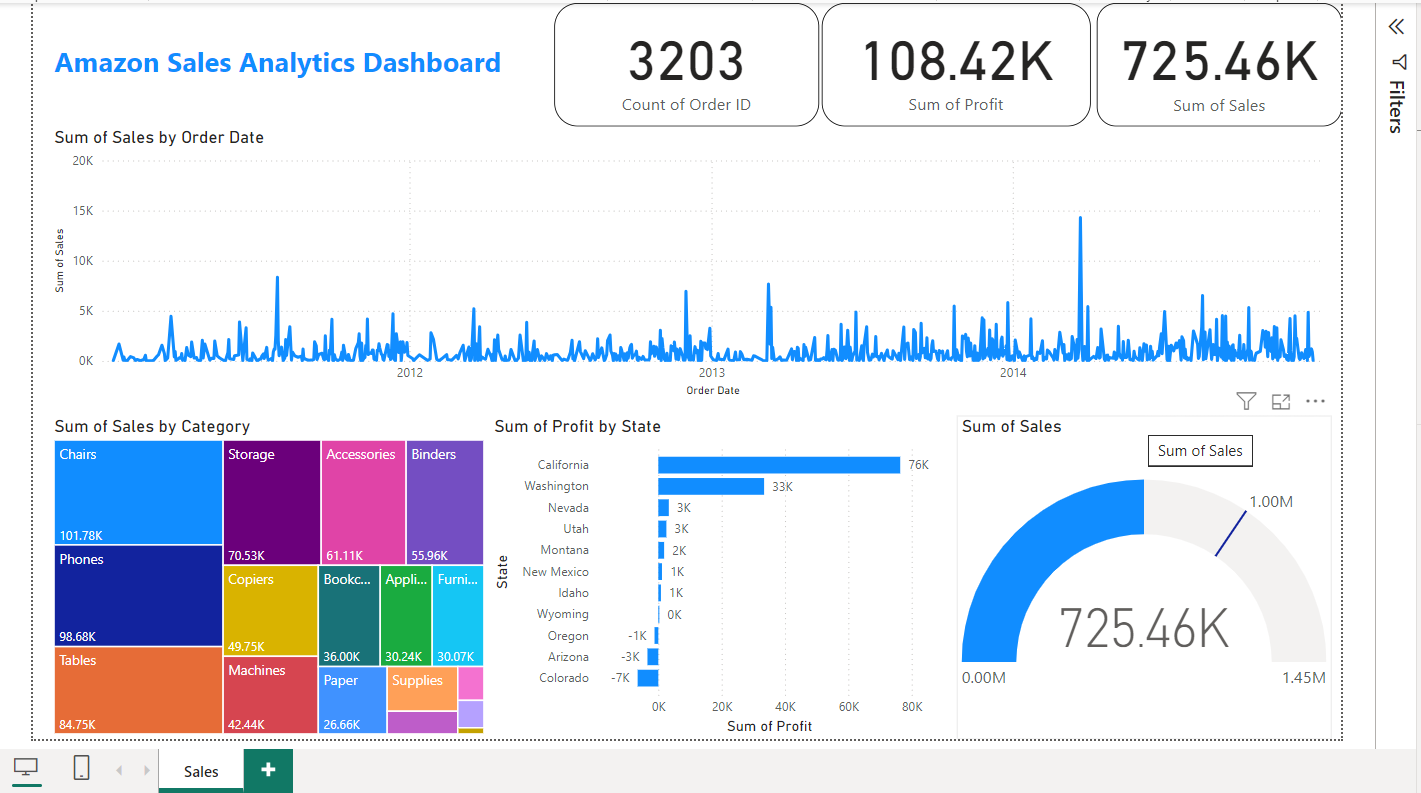

Layout of this report page (visuals, bound fields, positions):
{"tool":"powerbi","page":{"name":"Sales","canvas":[1280,720],"ordinal":0},"visuals":[{"type":"card","fields":{"Values":["Sum(Walmart.Sales)"]},"box":[1040.6,0,239.7,121.1],"z":0},{"type":"card","fields":{"Values":["Sum(Walmart.Profit)"]},"box":[771.6,0,262.9,121.1],"z":1000},{"type":"card","fields":{"Values":["CountNonNull(Walmart.Order ID)"]},"box":[509.9,0,259.2,121.1],"z":2000},{"type":"lineChart","fields":{"Category":["Walmart.Order Date"],"Y":["Sum(Walmart.Sales)"]},"box":[15.9,121.1,1254.6,269],"z":3000},{"type":"treemap","fields":{"Group":["Walmart.Category"],"Values":["Sum(Walmart.Sales)"]},"box":[15.9,403.5,430.4,316.7],"z":4000},{"type":"barChart","fields":{"Category":["Walmart.State"],"Y":["Sum(Walmart.Profit)"]},"box":[446.3,403.5,457.3,316.7],"z":5000},{"type":"gauge","fields":{"Y":["Sum(Walmart.Sales)"]},"box":[903.7,403.5,366.8,316.5],"z":6000},{"type":"textbox","box":[15.9,34.2,475.7,58.7],"z":7000}]}

Visuals, with their boxes in screenshot pixels (x1, y1, x2, y2):
card - Sum(Walmart.Sales): rect(1100, 0, 1351, 75)
card - Sum(Walmart.Profit): rect(818, 0, 1093, 75)
card - CountNonNull(Walmart.Order ID): rect(545, 0, 816, 75)
lineChart - Walmart.Order Date x Sum(Walmart.Sales): rect(28, 75, 1340, 356)
treemap - Walmart.Category x Sum(Walmart.Sales): rect(28, 370, 478, 702)
barChart - Walmart.State x Sum(Walmart.Profit): rect(478, 370, 956, 702)
gauge - Sum(Walmart.Sales): rect(957, 370, 1340, 701)
textbox: rect(28, 0, 525, 45)
